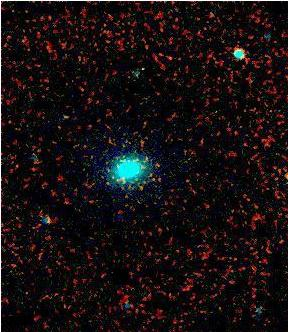star: (51, 101, 81, 131)
